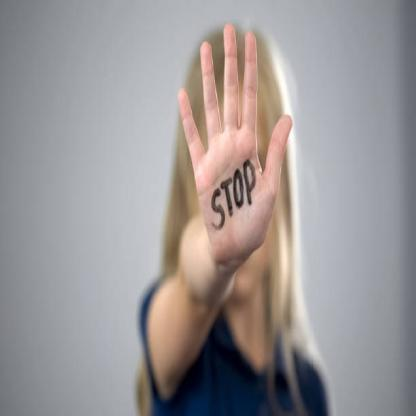stop: (176, 24, 294, 272)
